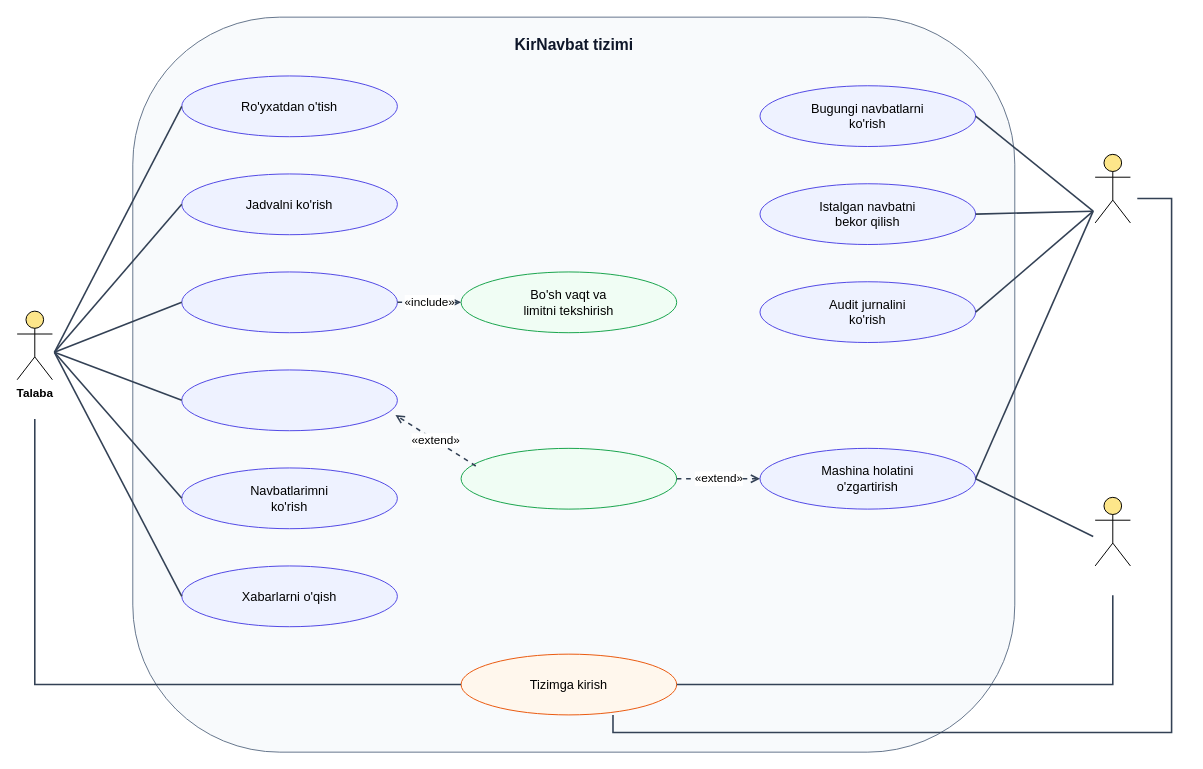
Some shapes in this 1203 by 769 pixel diagram are drawn without their labels. Here are the shapes that lost their labels. From the top down, the centre of each, then its label:
the point at 1112,188: Administrator (TTJ mudiri)
the point at 289,302: Navbat olish
the point at 289,400: Navbatni bekor qilish
the point at 568,478: Xabarnoma yuborish (Observer)
the point at 1112,531: Texnik usta
